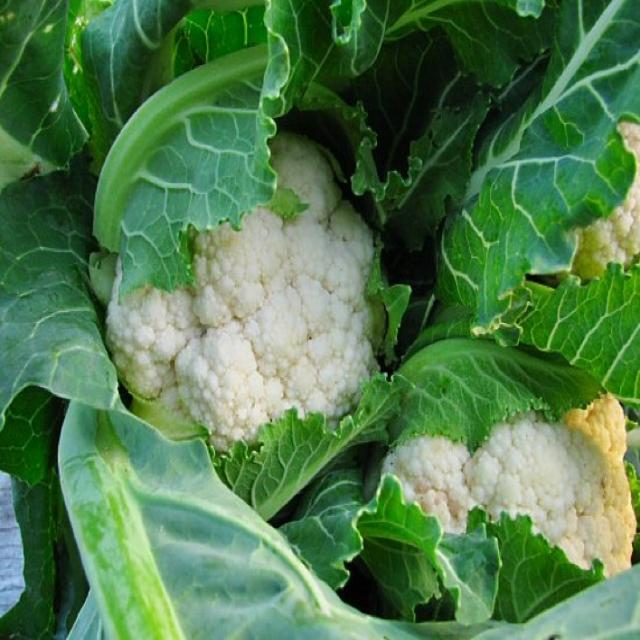cauliflower: (148, 91, 390, 449), (422, 327, 640, 596)
